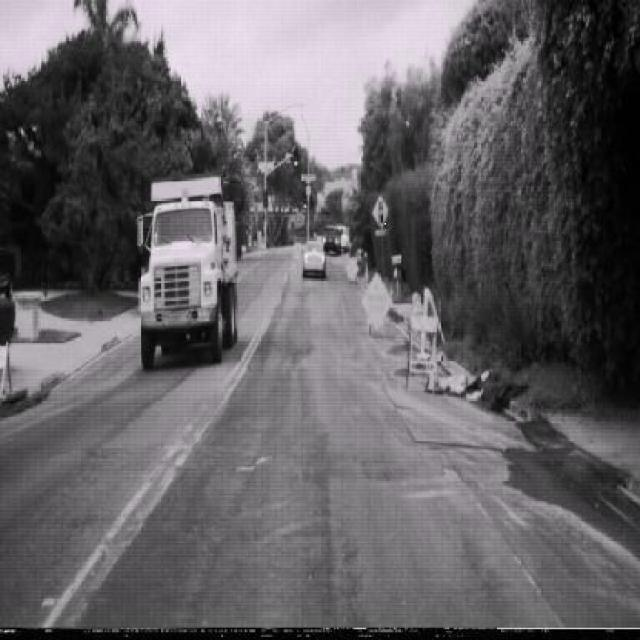signalAhead: (371, 191, 389, 229)
